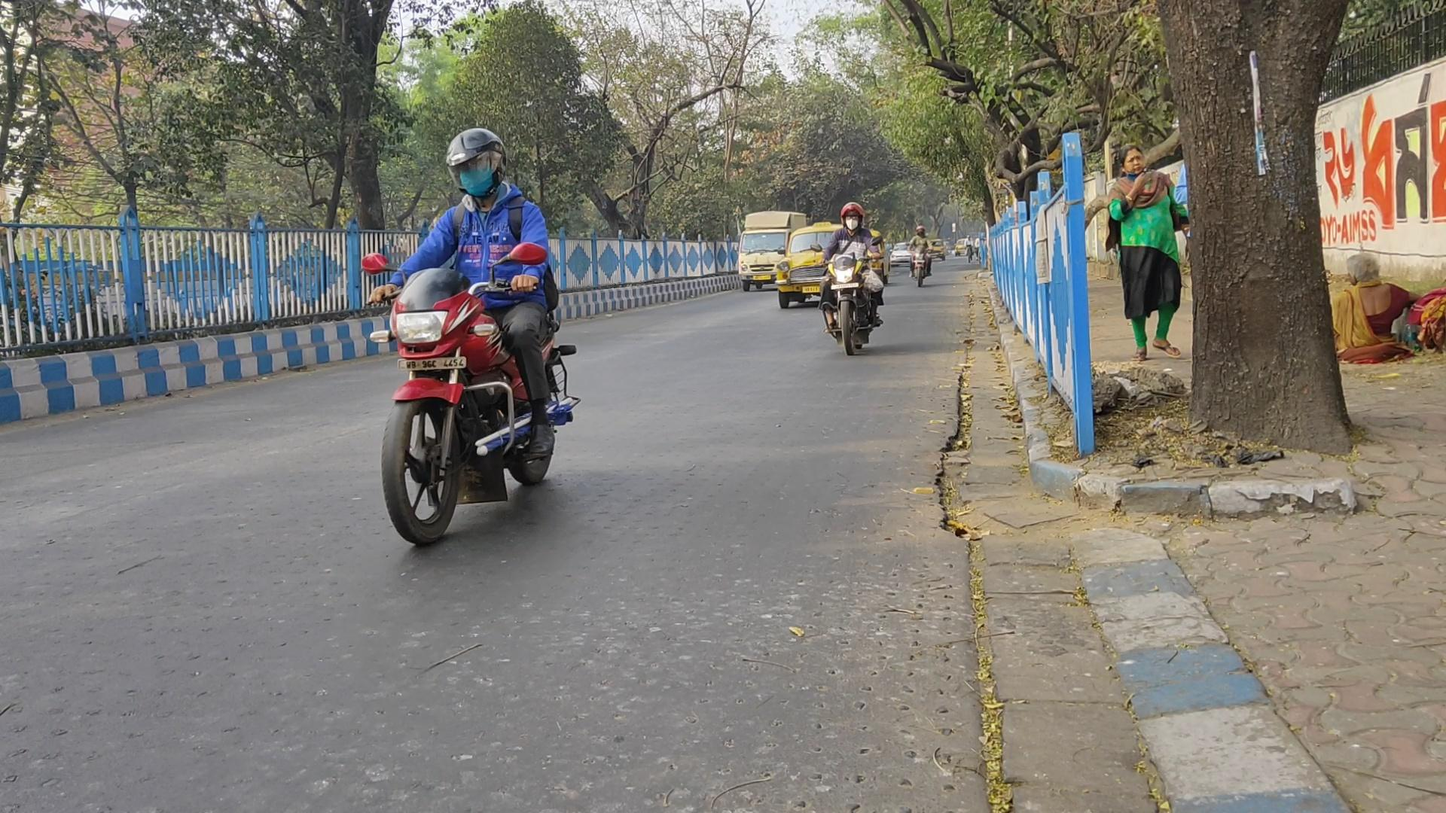bike: (365, 129, 582, 547), (818, 201, 883, 358), (905, 225, 933, 288), (964, 235, 974, 263)
car: (778, 222, 849, 311), (889, 241, 917, 269), (929, 239, 947, 262)
van: (736, 209, 807, 293)
